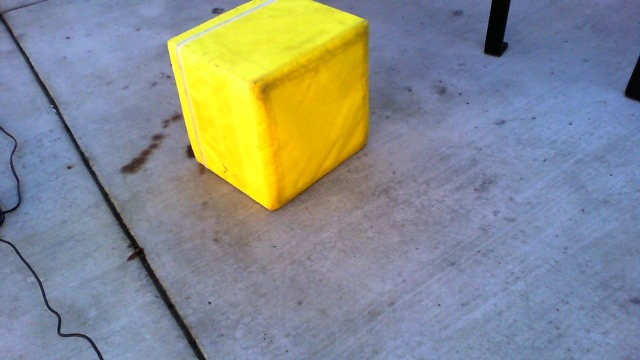cube: (169, 1, 371, 217)
